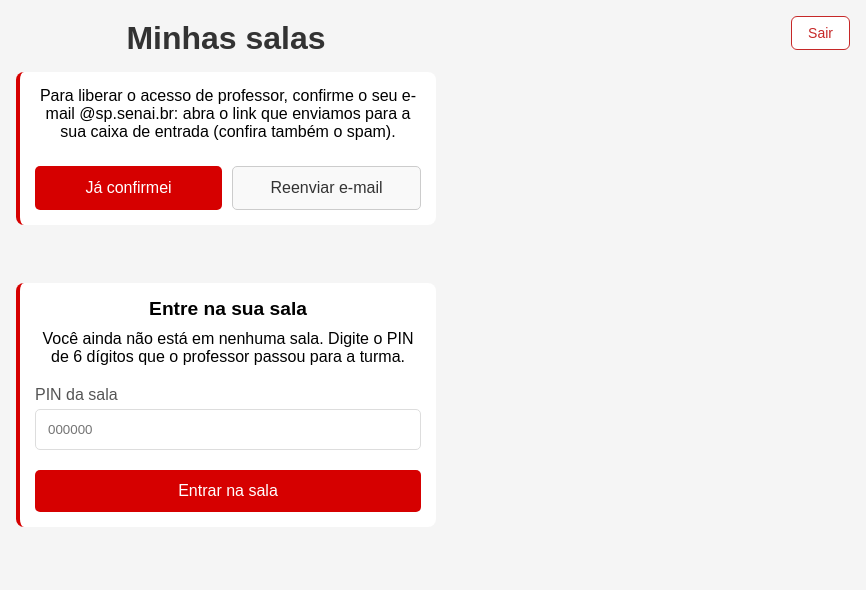
Test: o aviso de confirmação do e-mail de professor (v1.1.0) › reenviar manda outro link de confirmação
This screenshot has width=866, height=590.
Click the button "Reenviar e-mail". click: (326, 188)
box: [232, 166, 421, 210]
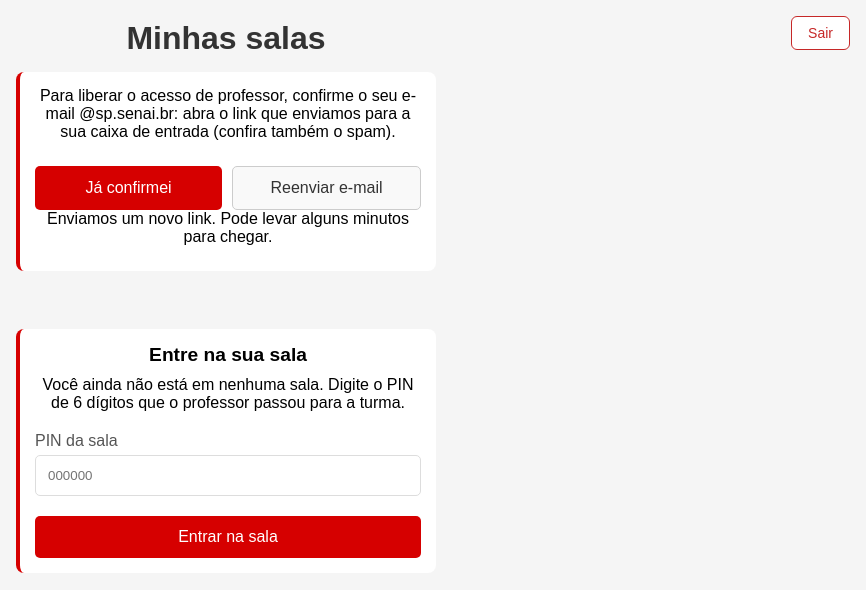
Result: the text "Enviamos um novo link. Pode levar alguns minutos para chegar." is shown at [35, 210, 421, 246]
